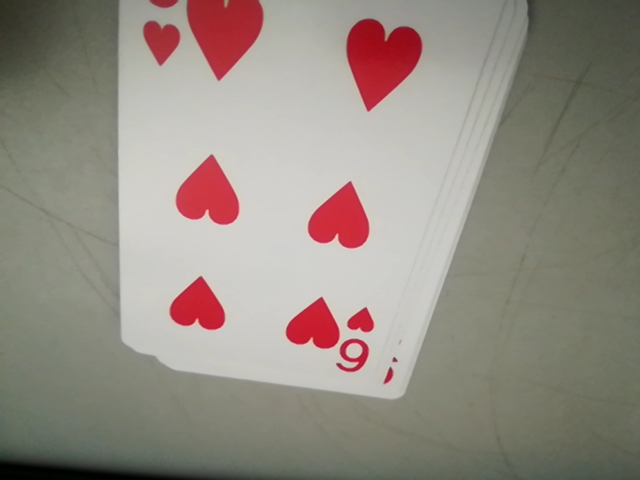hx 6: (337, 308, 377, 377)
